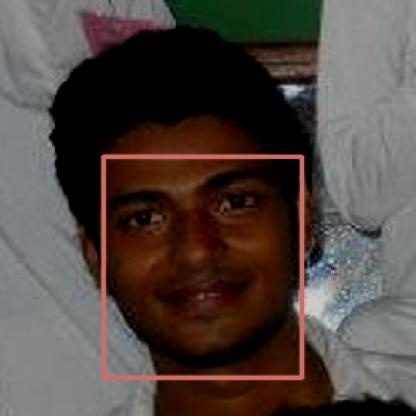without_mask: (103, 156, 301, 377)
